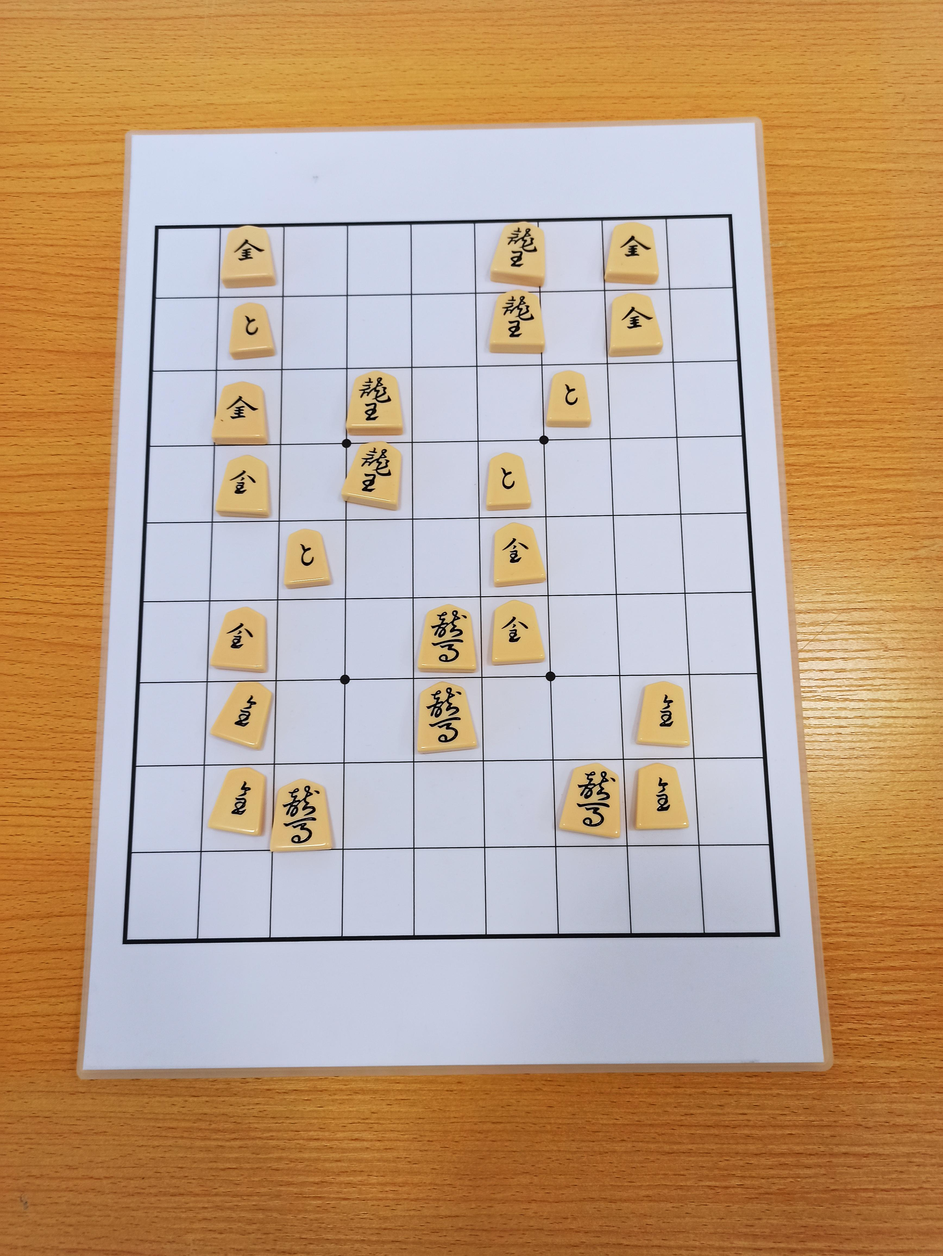board: (124, 215, 776, 942)
